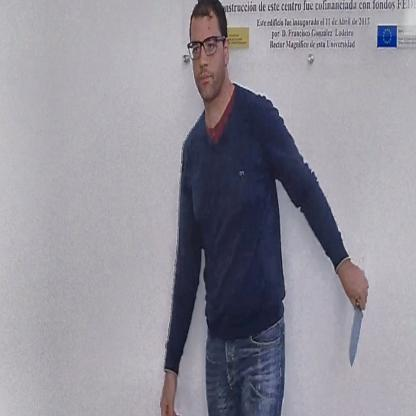knife: (345, 270, 371, 373)
